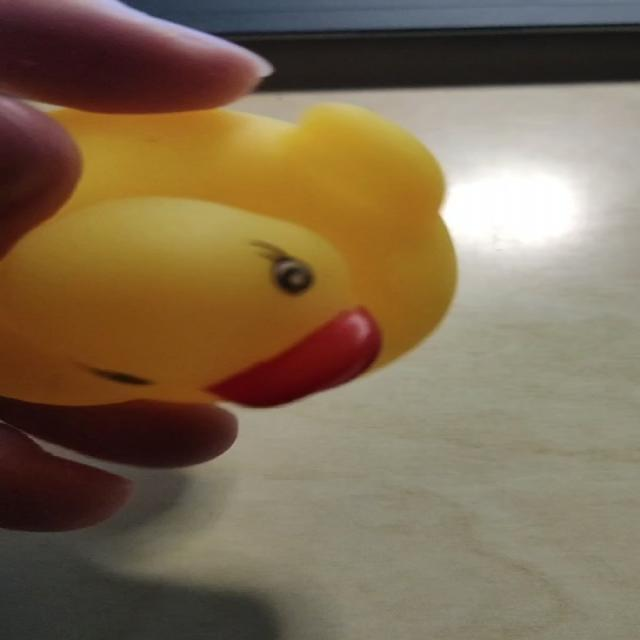rubber-duck: (0, 104, 454, 403)
